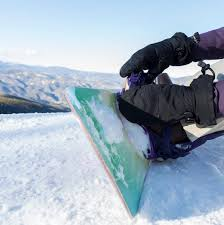snowboard: (64, 85, 156, 220)
